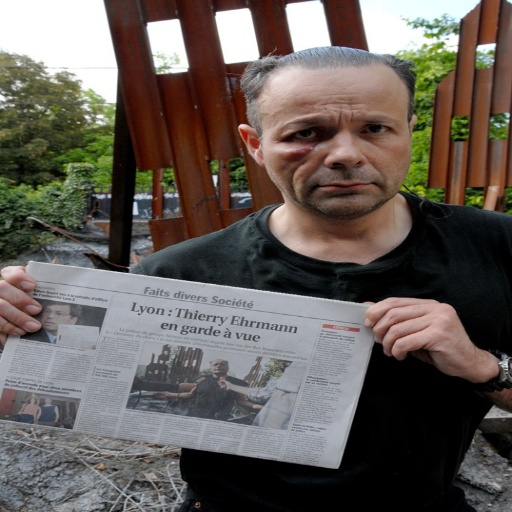hand: (358, 295, 498, 386), (0, 263, 44, 344), (177, 379, 195, 392), (214, 379, 232, 392), (150, 392, 171, 400)
